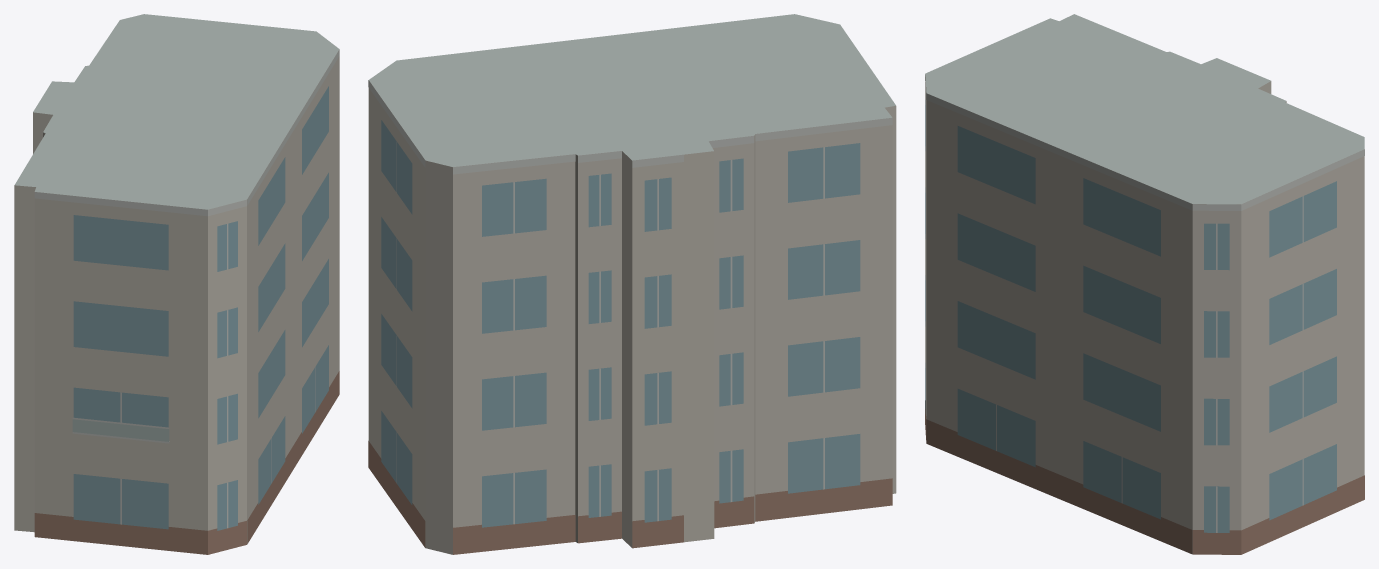
Rendered from survey-upis-32918115.glb.
The picture shows the model from 3 angles, left to right: view 1: azimuth 30°, elevation 25°; view 2: azimuth 150°, elevation 25°; view 3: azimuth 270°, elevation 25°; orthographic projection. The views are drawn at different scales.
Visible parts, largest first — view 1: survey-upis-32918115.tmp; view 2: survey-upis-32918115.tmp; view 3: survey-upis-32918115.tmp.
Part boxes in pixels (x1,y1,x2,y2): survey-upis-32918115.tmp: (14,14,339,554); survey-upis-32918115.tmp: (368,14,896,554); survey-upis-32918115.tmp: (925,14,1364,554).
Size of the model in its own units: 14.92 by 12.8 by 14.56.
